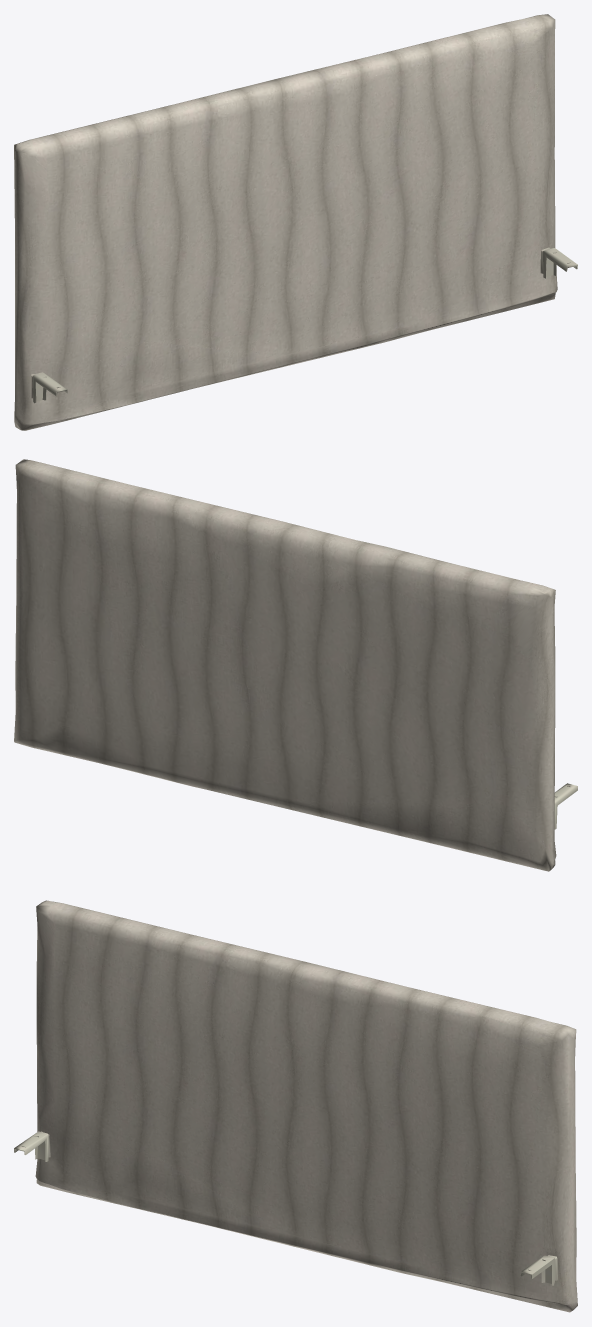
File: 22 - MITTZON - 辦公桌隔音屏, Gunnared 米色, 145x72 公分 IKEA 線上購物.glb
3 views of the same model, one above another, from view 1: azimuth 30°, elevation 25°; view 2: azimuth 150°, elevation 25°; view 3: azimuth 330°, elevation 25° (orthographic).
Parts seen in each view (by area): view 1: model; view 2: model; view 3: model.
Boxes of the visible parts, bbox=[...] form: model: bbox=[14, 14, 577, 430]; model: bbox=[14, 459, 577, 871]; model: bbox=[14, 900, 577, 1312].
Bounding box in the file's own units: 1.44 × 0.7272 × 0.2025.
1 material, 1 textured.
